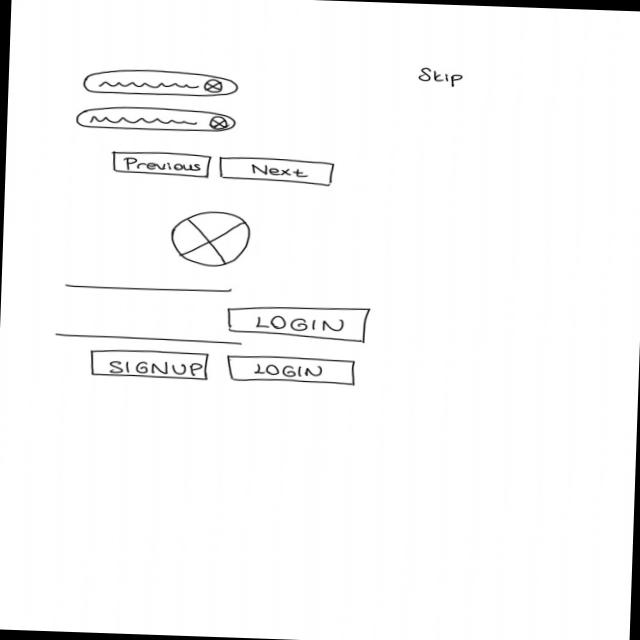button: (225, 302, 374, 345), (227, 352, 361, 388), (89, 347, 214, 382), (218, 155, 336, 188), (111, 149, 216, 181)
image: (168, 208, 255, 269)
label: (415, 66, 468, 91)
